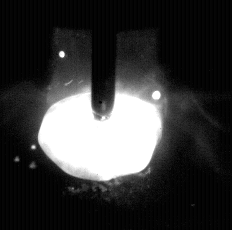arame: (91, 0, 117, 121)
poca: (37, 0, 163, 230)
